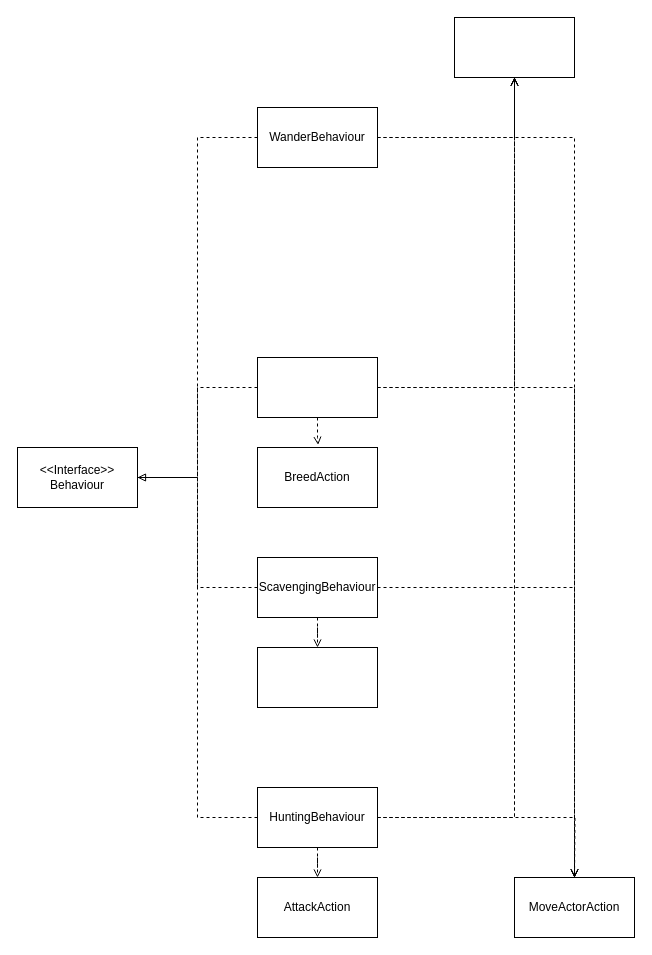
The diagram is 652 pixels wide and 955 high, and some of its shapes have lost their labels. Here are the shapes that lost their labels. From the top down, the centre of each, then its label:
At (514,47): "Location".
At (317,387): "MatingBehaviour".
At (317,677): "PickFruitAction".
